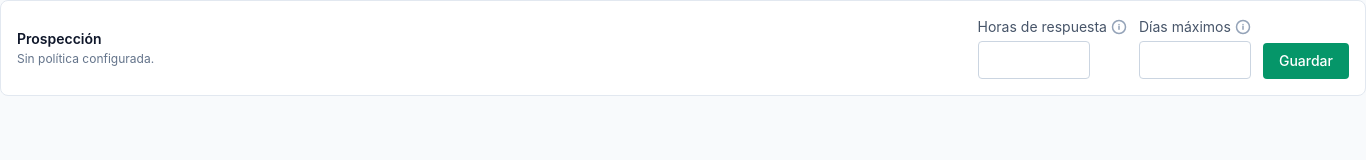
Test: SlaSettings › valida los días máximos no negativos
The width and height of the screenshot is (1366, 160).
Type "-1" into the number field labelled "Días máximos" at x=1195, y=60, box [1139,41,1251,79]
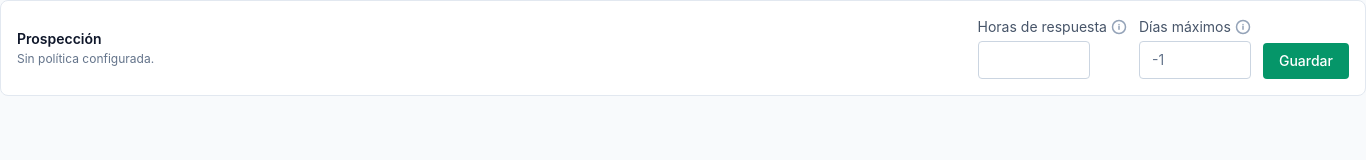
Click the button "Guardar" at x=1306, y=61, box [1263,43,1349,79]
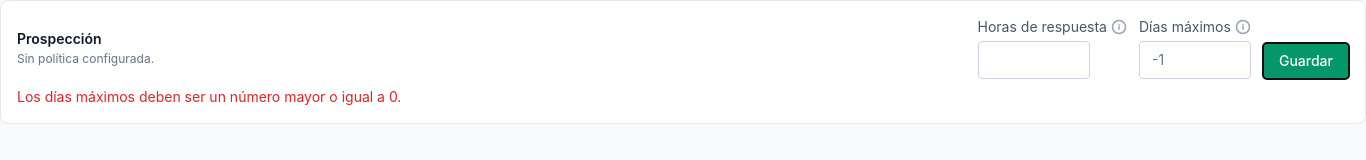
Now the text "Los días máximos deben ser un número mayor o igual a 0." is shown, box [17,88,401,105]
